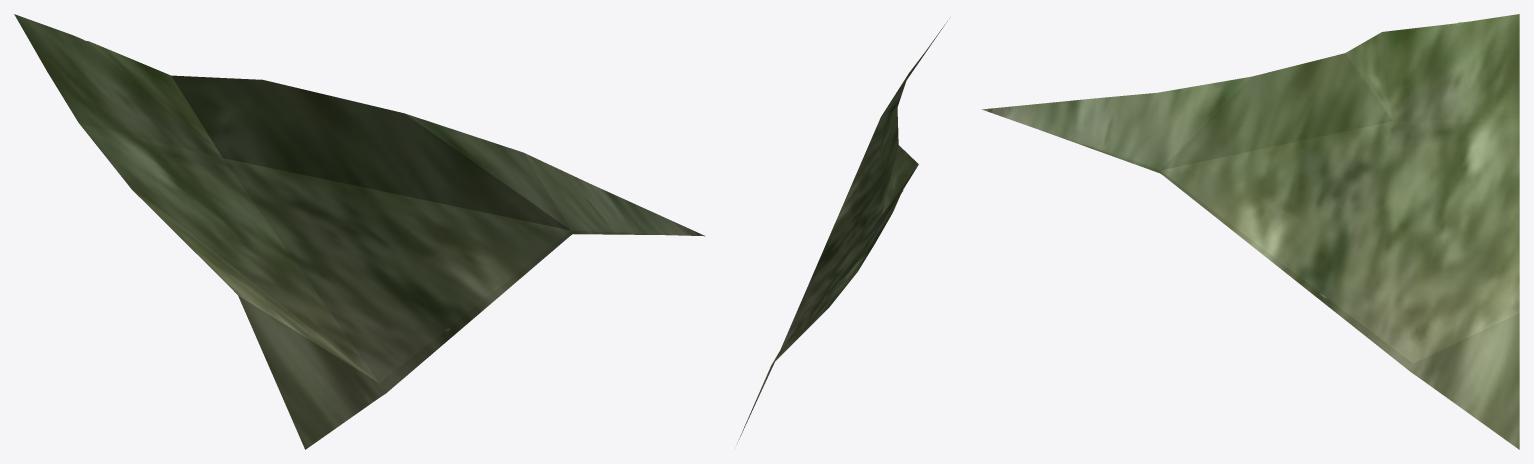
3 renders of one model, left to right at view 1: azimuth 30°, elevation 25°; view 2: azimuth 150°, elevation 25°; view 3: azimuth 270°, elevation 25°, orthographic. The views are drawn at different scales.
Size of the model in its own units: 1.04 by 1.73 by 2.47.
Materials: 1 (1 with a texture image).
